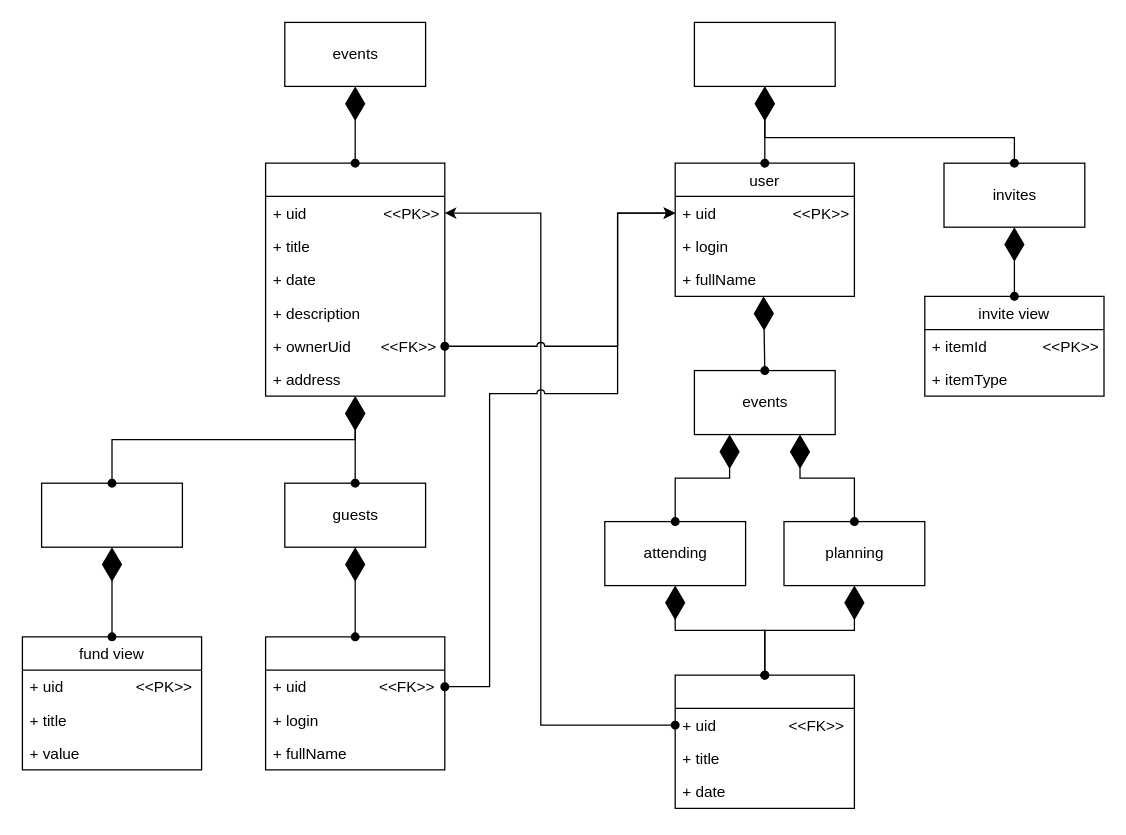
Image size: 1126x835. Some labels were removed from this diagram. Here are the shapes that lost their labels. From the top down, the box of each, then its label:
(693, 21, 835, 86): users
(264, 162, 445, 396): event
(40, 482, 182, 547): funds
(264, 636, 445, 770): user view
(674, 674, 854, 808): event view
